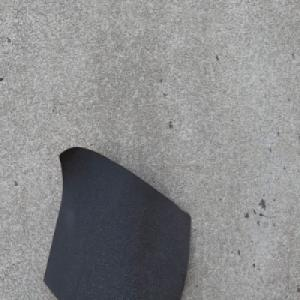PaintChip: (42, 145, 192, 299)
